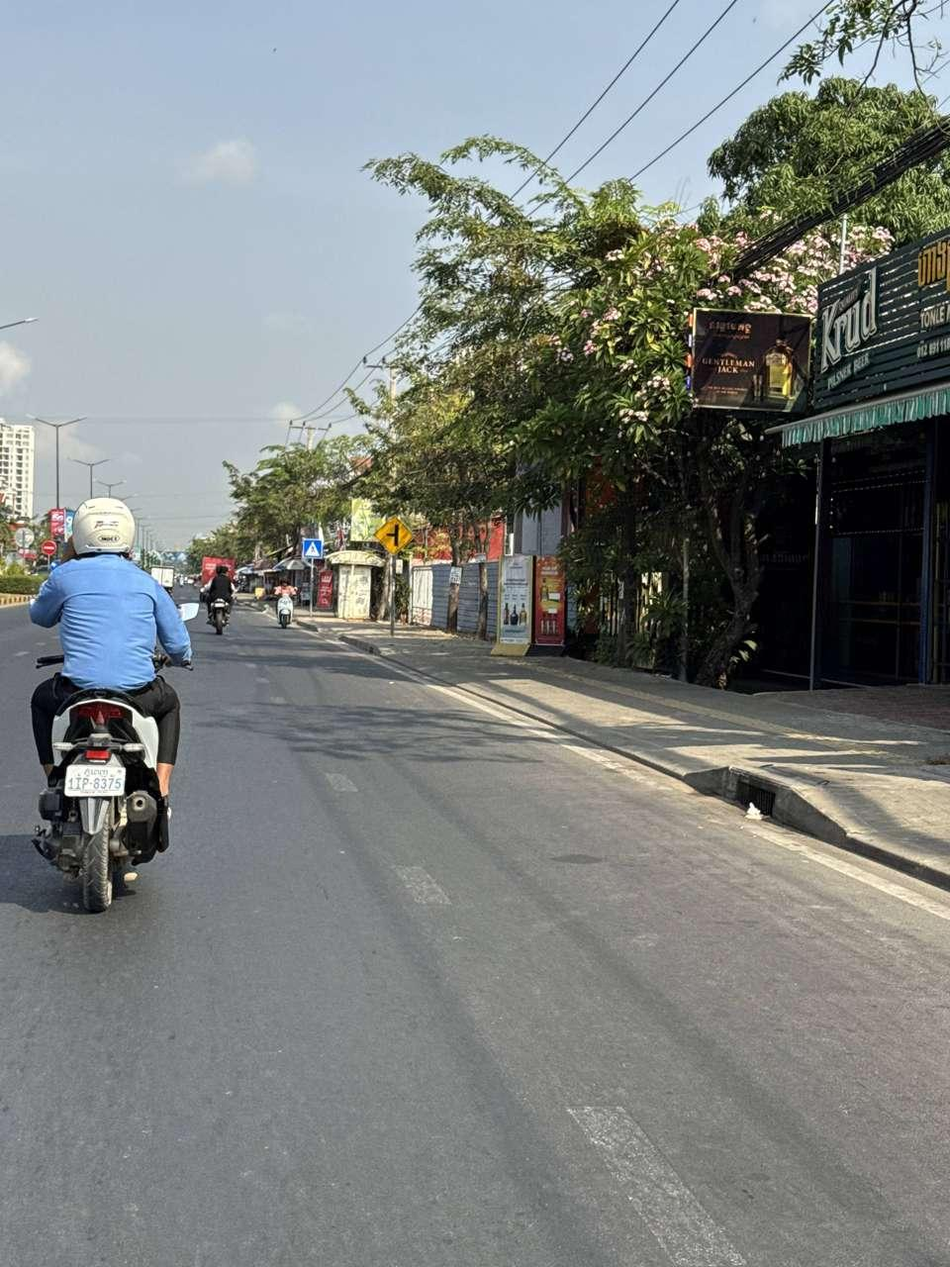no_entry: (41, 540, 57, 556)
pedestrian_crossing: (300, 537, 325, 561)
side_road_junction_left: (373, 514, 413, 554)
